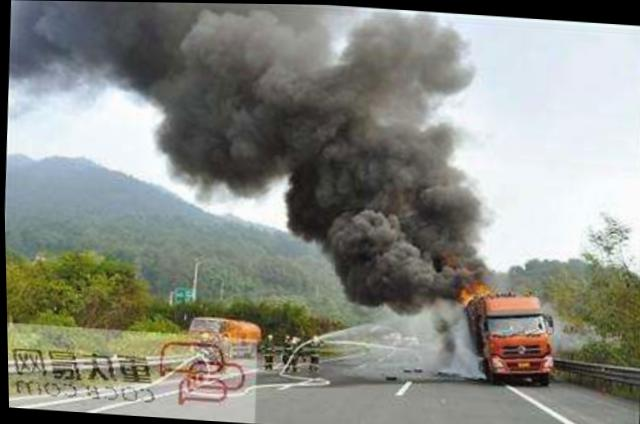fire: (451, 259, 496, 310)
